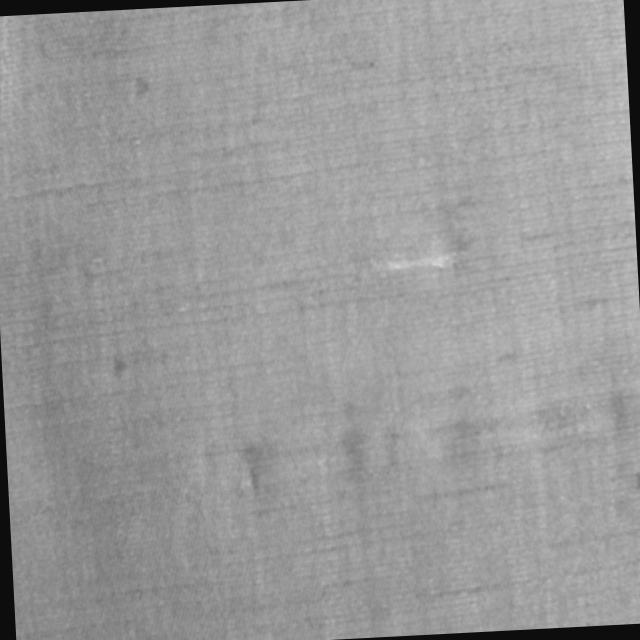thread error: (235, 378, 640, 518), (352, 198, 476, 286), (0, 16, 17, 171)
